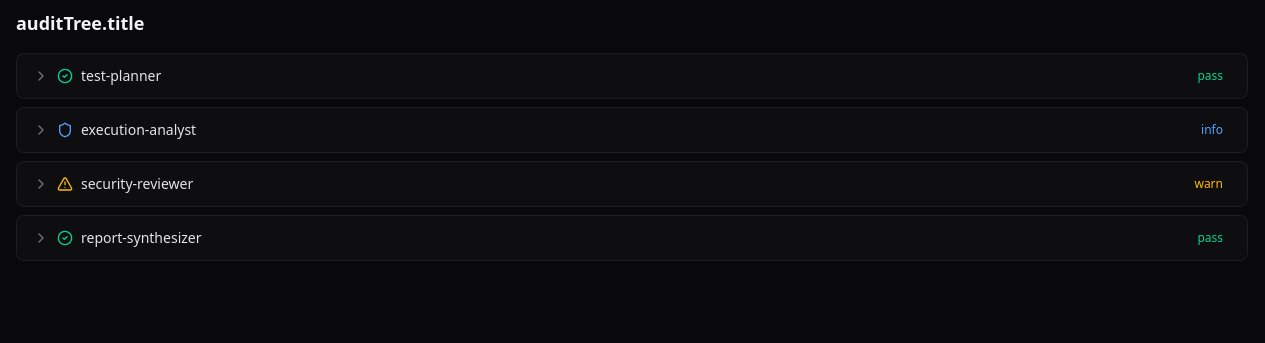
Test case: AuditTreeView › displays summary text when expanded
The image size is (1265, 343).
Click the text "execution-analyst" at (139, 130), box 81,120 -> 196,140
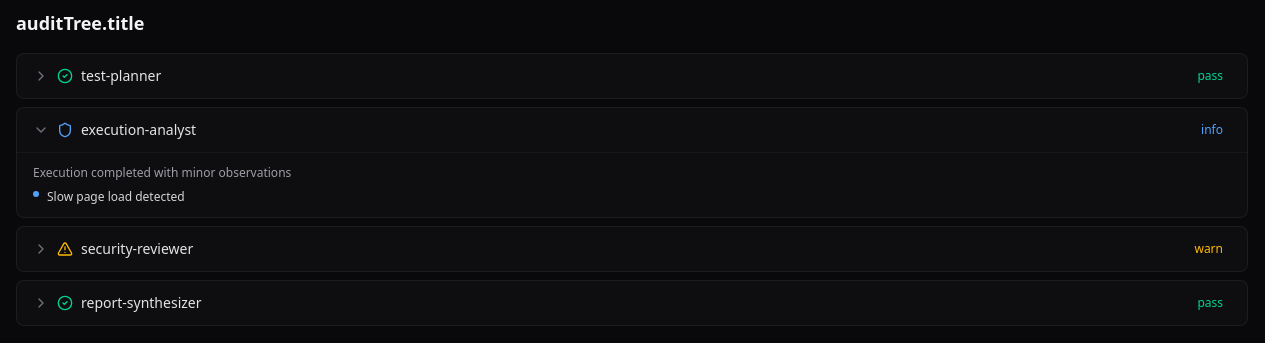
Result: the text "Execution completed with minor observations" is shown at 33,164 -> 291,181
